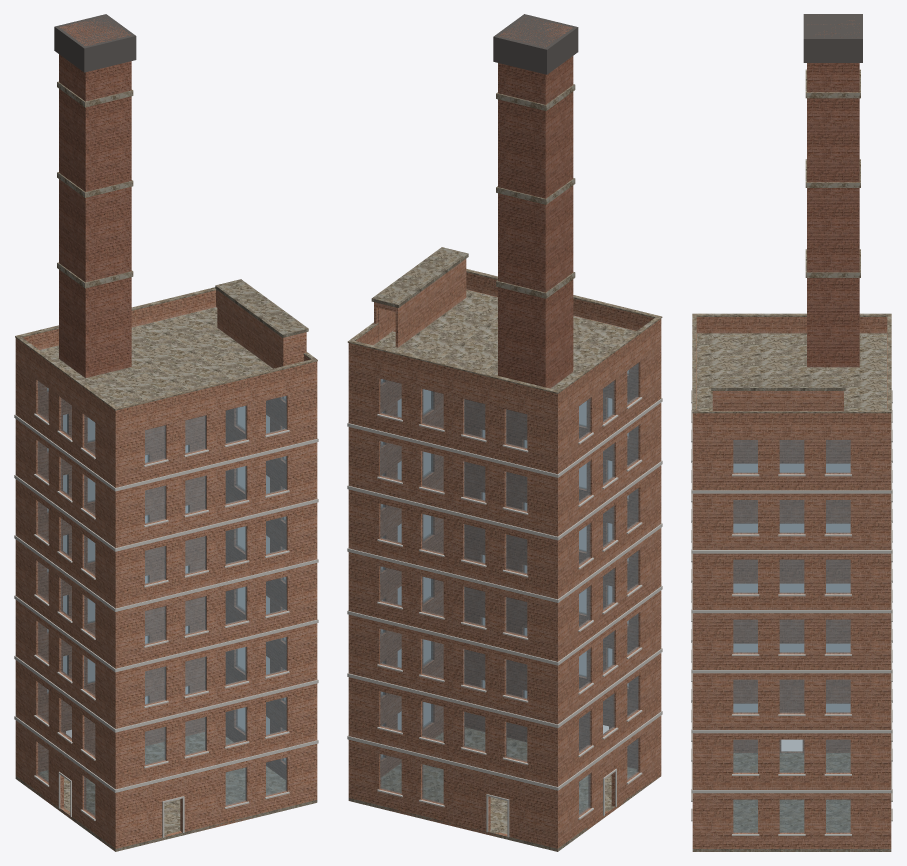
File: ew-boiler-tower.works-v1.lod1.glb
3 views of the same model, side by side, from view 1: azimuth 30°, elevation 25°; view 2: azimuth 150°, elevation 25°; view 3: azimuth 270°, elevation 25° (orthographic). The views are drawn at different scales.
Parts seen in each view (by area): view 1: ew-boiler-tower; view 2: ew-boiler-tower; view 3: ew-boiler-tower.
Part boxes in pixels (box(x1,y1,x2,y2)): ew-boiler-tower: box(14, 14, 318, 851); ew-boiler-tower: box(347, 14, 662, 851); ew-boiler-tower: box(691, 14, 892, 851).
Size of the model in its own units: 14.2 by 50.2 by 12.2.
Materials: 4 (2 with a texture image).
